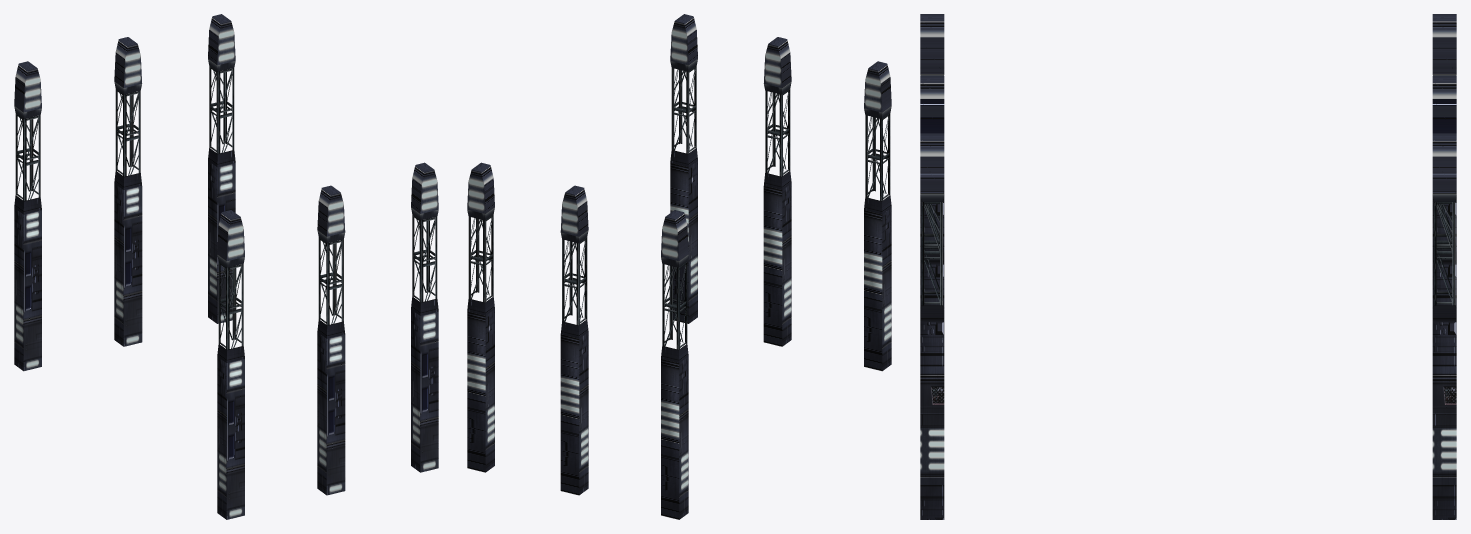
Rendered from prop_hangar_columns.gltf.
3 renders of one model, left to right at view 1: azimuth 30°, elevation 25°; view 2: azimuth 150°, elevation 25°; view 3: azimuth 270°, elevation 25°, orthographic. The views are drawn at different scales.
Parts seen in each view (by area): view 1: polymsh78, polymsh75, polymsh1, polymsh76, polymsh79, polymsh77; view 2: polymsh78, polymsh75, polymsh77, polymsh79, polymsh76, polymsh1; view 3: polymsh1, polymsh77, polymsh78, polymsh75, polymsh79, polymsh76.
Part boxes in pixels (x1,y1,x2,y2): polymsh78: (114, 37, 142, 346); polymsh75: (317, 185, 345, 495); polymsh1: (411, 162, 438, 472); polymsh76: (217, 210, 244, 519); polymsh79: (14, 61, 41, 371); polymsh77: (208, 14, 235, 323); polymsh78: (560, 185, 588, 495); polymsh75: (763, 37, 791, 346); polymsh77: (467, 162, 494, 472); polymsh79: (661, 210, 688, 519); polymsh76: (864, 61, 891, 371); polymsh1: (670, 14, 697, 323); polymsh1: (920, 133, 944, 519); polymsh77: (1432, 133, 1456, 519); polymsh78: (1432, 75, 1456, 309); polymsh75: (920, 75, 944, 309); polymsh79: (1432, 14, 1456, 251); polymsh76: (920, 14, 944, 251).
Size of the model in its own units: 17.13 by 23.13 by 29.72.
2 materials, 2 textured.
